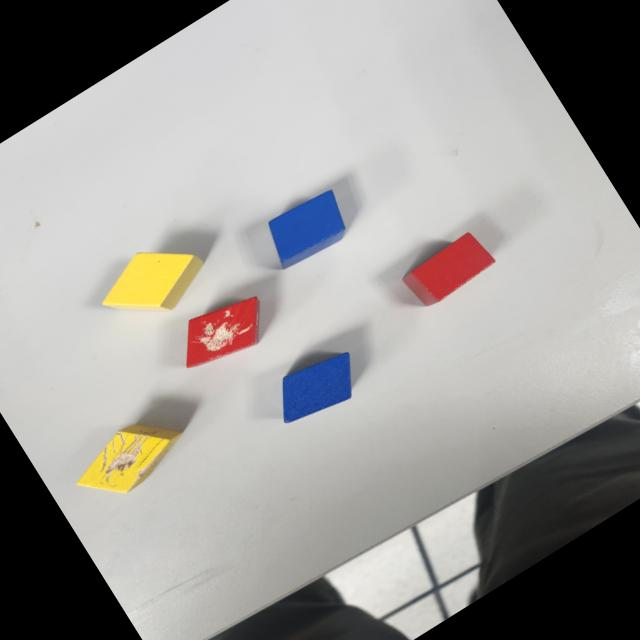blue: (264, 340, 370, 436), (255, 182, 358, 274)
broken: (62, 403, 192, 514), (164, 282, 280, 384)
red: (398, 228, 498, 314)
yellow: (87, 224, 215, 338)
